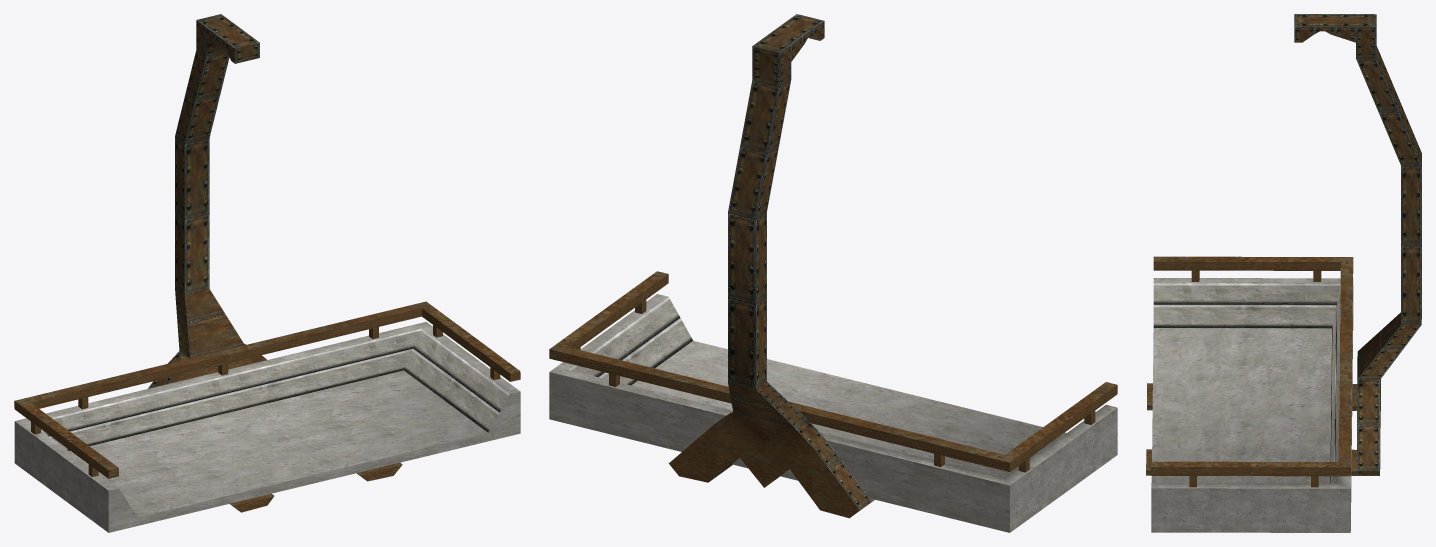
Rendered from DWARF_PALACE_GONDOLA.fbx.
The picture shows the model from 3 angles, left to right: view 1: azimuth 30°, elevation 25°; view 2: azimuth 150°, elevation 25°; view 3: azimuth 270°, elevation 25°; orthographic projection. The views are drawn at different scales.
Visible parts, largest first — view 1: DWARF_PALACE_GONDOLA; view 2: DWARF_PALACE_GONDOLA; view 3: DWARF_PALACE_GONDOLA.
Boxes of the visible parts, x1,y1,x2,y2 form: DWARF_PALACE_GONDOLA: (14, 14, 520, 532); DWARF_PALACE_GONDOLA: (549, 14, 1117, 532); DWARF_PALACE_GONDOLA: (1146, 14, 1421, 532).
Size of the model in its own units: 49502 by 45622 by 27373.
4 materials, 4 textured.
